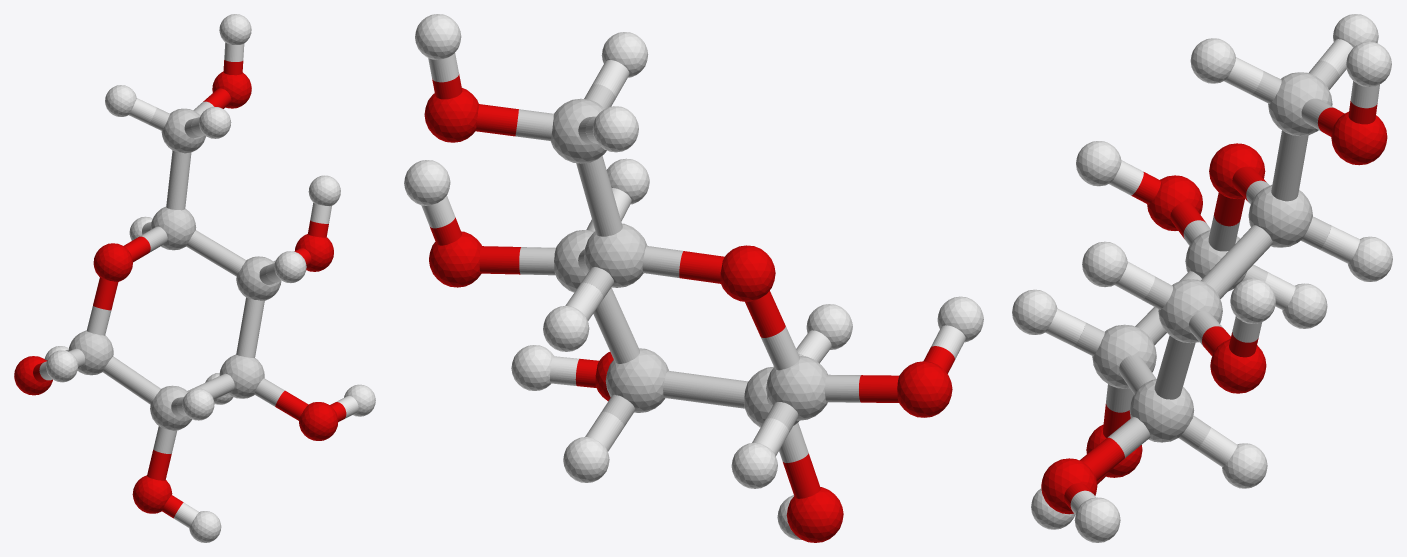
File: l_glucose.fbx
3 renders of one model, left to right at view 1: azimuth 30°, elevation 25°; view 2: azimuth 150°, elevation 25°; view 3: azimuth 270°, elevation 25°, orthographic. The views are drawn at different scales.
Visible parts, largest first — view 1: l_glucose; view 2: l_glucose; view 3: l_glucose.
Part boxes in pixels (x1,y1,x2,y2): l_glucose: (14,14,375,542); l_glucose: (404,14,983,542); l_glucose: (1012,14,1392,542).
Size of the model in its own units: 6316 by 7084 by 4203.
